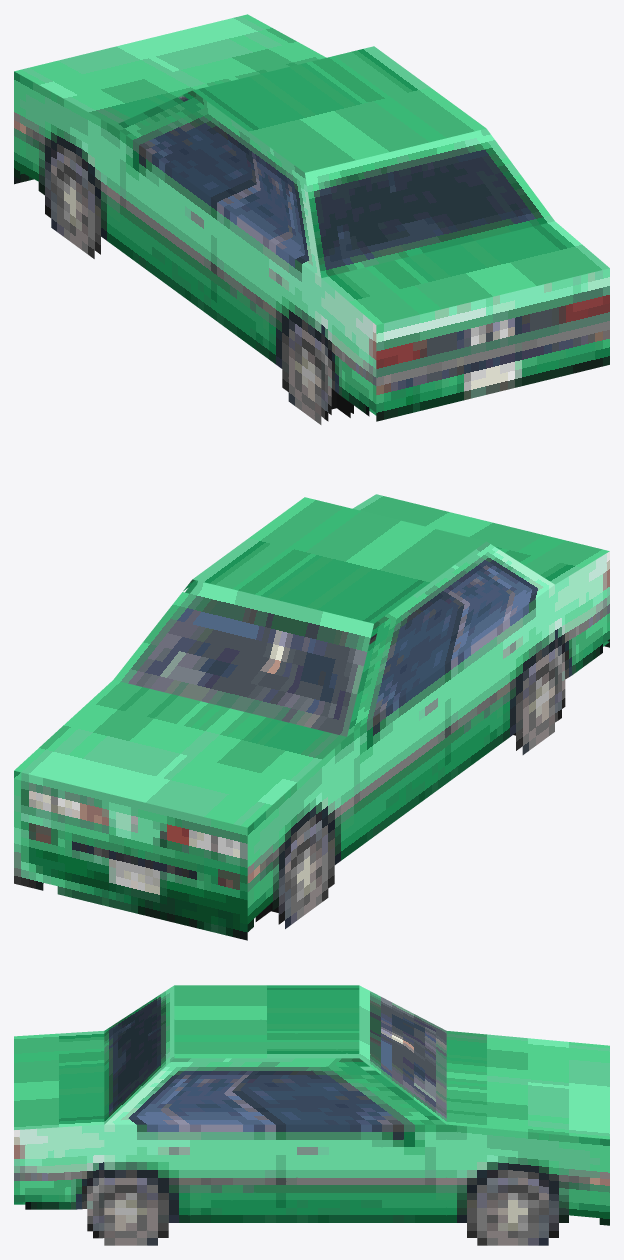
File: car-sunbird.glb
3 views of the same model, one above another, from view 1: azimuth 30°, elevation 25°; view 2: azimuth 150°, elevation 25°; view 3: azimuth 270°, elevation 25° (orthographic). The views are drawn at different scales.
Parts seen in each view (by area): view 1: car-sunbird; view 2: car-sunbird; view 3: car-sunbird.
Boxes of the visible parts, <box> form: car-sunbird: <box>14,14,609,424</box>; car-sunbird: <box>14,494,609,940</box>; car-sunbird: <box>14,985,609,1245</box>.
Size of the model in its own units: 1.69 by 1.48 by 4.53.
Materials: 16 (16 with a texture image).
